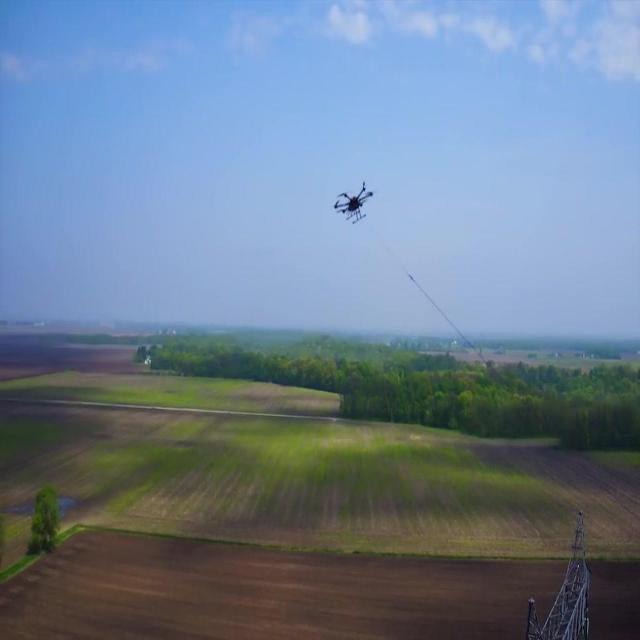UAV: (334, 180, 374, 225)
